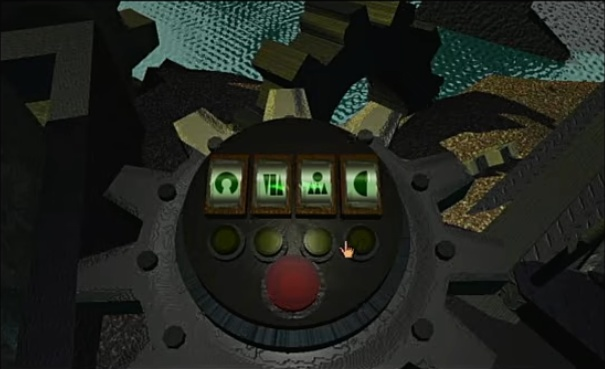Pointer: (336, 237, 359, 261)
